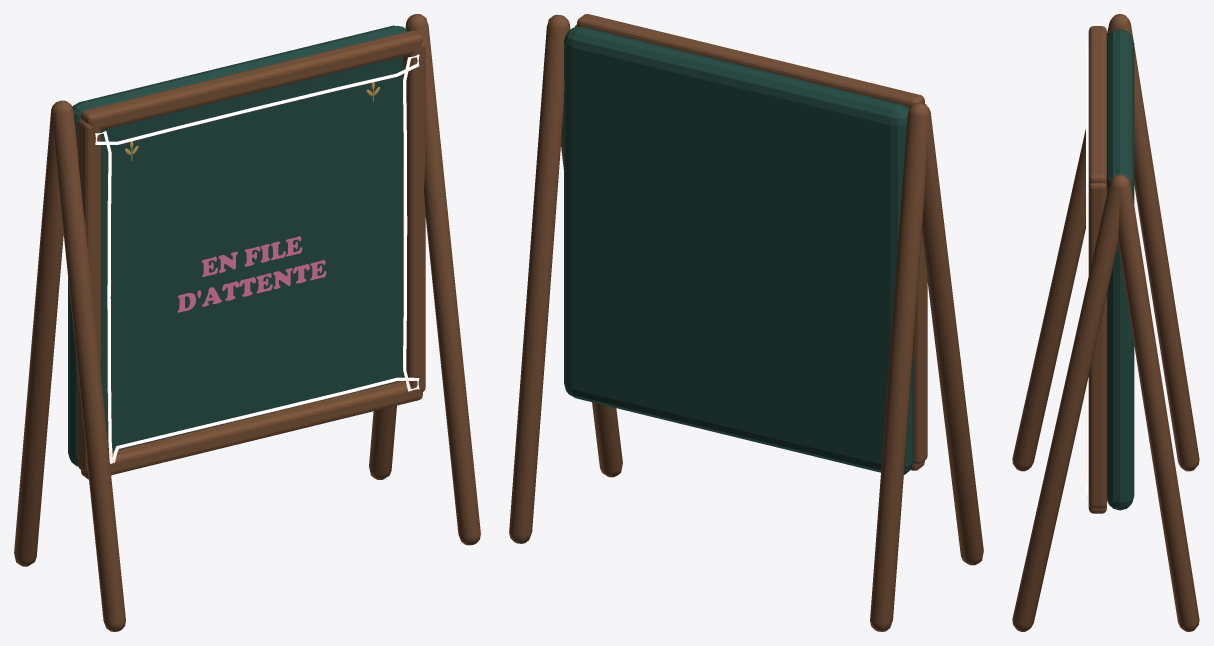
File: pavement_board.glb
3 renders of one model, left to right at view 1: azimuth 30°, elevation 25°; view 2: azimuth 150°, elevation 25°; view 3: azimuth 270°, elevation 25°, orthographic. The views are drawn at different scales.
Parts seen in each view (by area): view 1: Board_body, Splayed_leg.002, Splayed_leg.003, Splayed_leg, Carved_header.001, Carved_header, Carved_side_moulding.001, Live_neon_border, Carved_side_moulding, Flat_queue_title, Splayed_leg.001; view 2: Board_body, Splayed_leg, Splayed_leg.001, Splayed_leg.002, Carved_header.001, Carved_side_moulding, Splayed_leg.003; view 3: Board_body, Splayed_leg.003, Splayed_leg.001, Splayed_leg, Splayed_leg.002, Carved_side_moulding.001, Carved_header.001, Live_neon_border.
Part boxes in pixels (x1,y1,x2,y2): Board_body: (68, 25, 407, 466); Splayed_leg.002: (52, 100, 125, 631); Splayed_leg.003: (407, 14, 480, 545); Splayed_leg: (14, 100, 72, 566); Carved_header.001: (81, 30, 422, 129); Carved_header: (81, 381, 422, 479); Carved_side_moulding.001: (402, 41, 425, 391); Live_neon_border: (95, 54, 419, 463); Carved_side_moulding: (78, 119, 100, 473); Flat_queue_title: (177, 236, 326, 312); Splayed_leg.001: (369, 14, 427, 479); Board_body: (564, 26, 913, 474); Splayed_leg: (870, 103, 929, 631); Splayed_leg.001: (509, 14, 568, 543); Splayed_leg.002: (908, 103, 983, 565); Carved_header.001: (577, 14, 924, 108); Carved_side_moulding: (913, 103, 927, 464); Splayed_leg.003: (547, 15, 622, 477); Board_body: (1107, 29, 1134, 510); Splayed_leg.003: (1012, 174, 1130, 631); Splayed_leg.001: (1110, 174, 1199, 631); Splayed_leg: (1110, 14, 1199, 471); Splayed_leg.002: (1012, 14, 1130, 471); Carved_side_moulding.001: (1088, 183, 1106, 508); Carved_header.001: (1088, 26, 1106, 184); Live_neon_border: (1086, 43, 1088, 499).
Size of the model in its own units: 0.994 by 1.24 by 0.4632.
